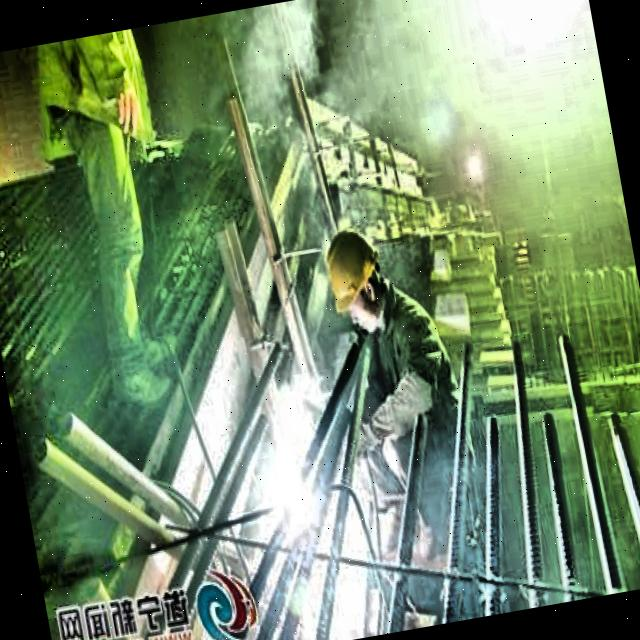helmet: (308, 208, 394, 332)
